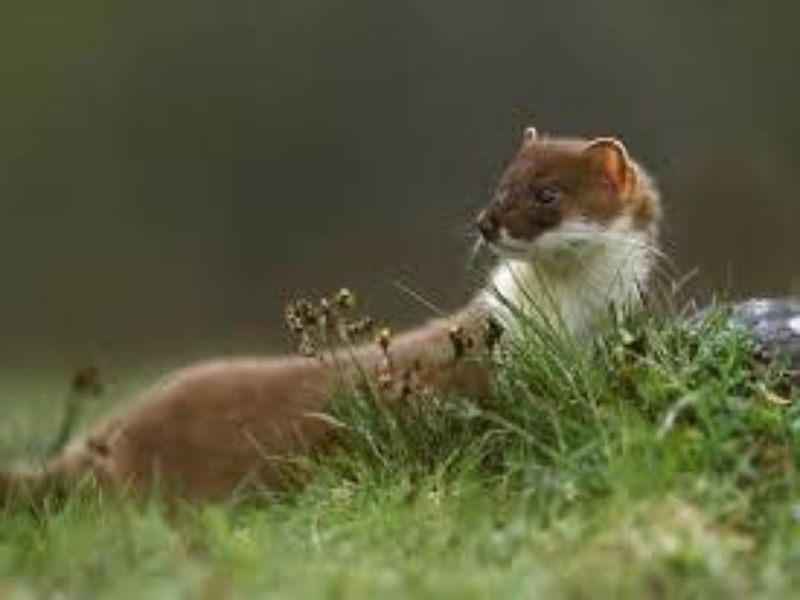minkish: (18, 122, 667, 520)
